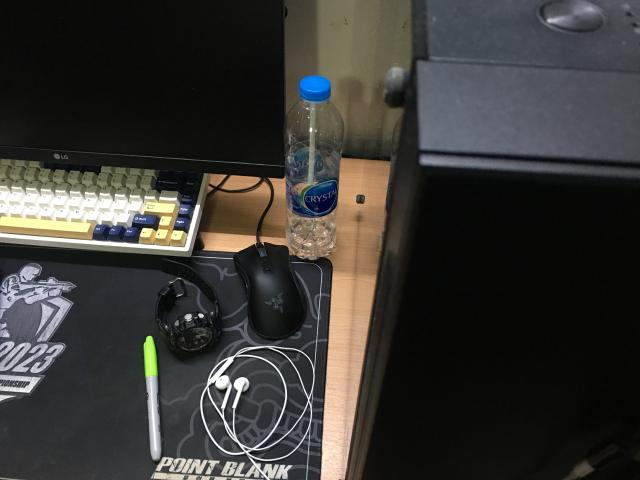Mouse: (234, 243, 306, 340)
Pen: (144, 336, 161, 461)
Watch: (155, 260, 222, 355)
bottle: (285, 76, 344, 260)
wire: (200, 346, 315, 479)
